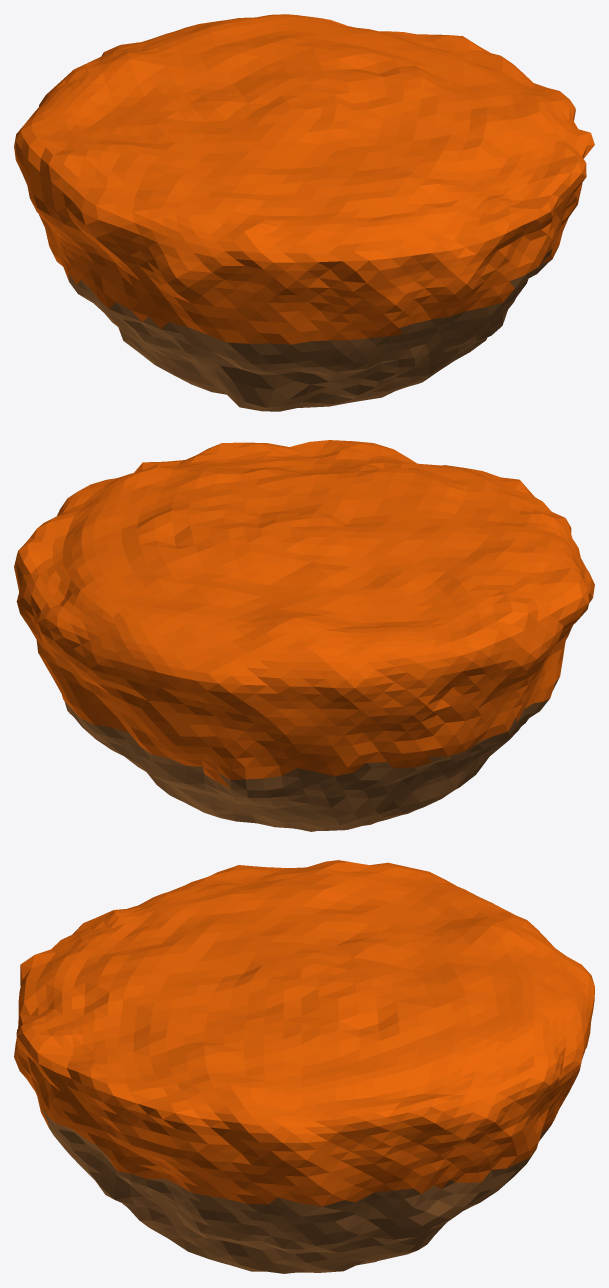
File: island_4.fbx
3 views of the same model, one above another, from view 1: azimuth 30°, elevation 25°; view 2: azimuth 150°, elevation 25°; view 3: azimuth 270°, elevation 25° (orthographic). The views are drawn at different scales.
Parts seen in each view (by area): view 1: Icosphere.063; view 2: Icosphere.063; view 3: Icosphere.063.
Part boxes in pixels (x1,y1,x2,y2): Icosphere.063: (14,14,594,411); Icosphere.063: (14,440,594,831); Icosphere.063: (14,860,594,1273).
Bounding box in the file's own units: 4853 × 2549 × 4773.
